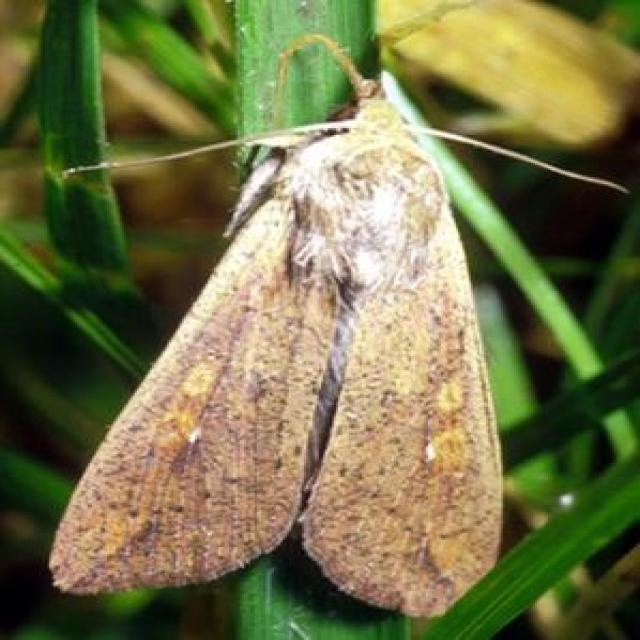army worm: (46, 81, 530, 616)
